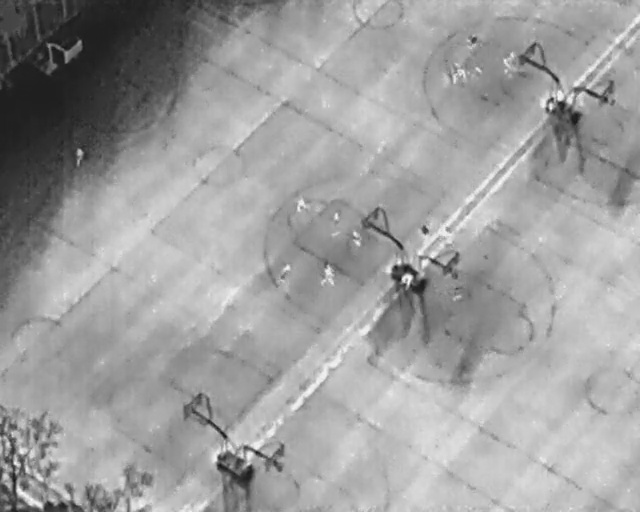Person: (274, 260, 295, 283), (502, 51, 519, 75), (463, 31, 481, 53), (320, 264, 335, 286), (398, 272, 414, 290), (73, 146, 85, 168), (350, 228, 363, 248), (564, 89, 577, 105), (448, 71, 459, 87), (296, 198, 307, 213), (456, 67, 466, 82), (420, 222, 430, 235), (557, 88, 566, 101), (333, 211, 340, 225)
